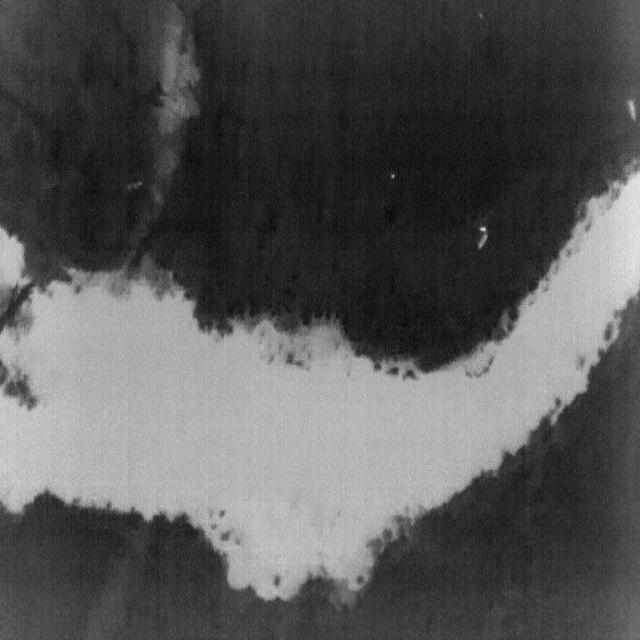deer: (627, 99, 638, 122), (478, 226, 488, 248)
